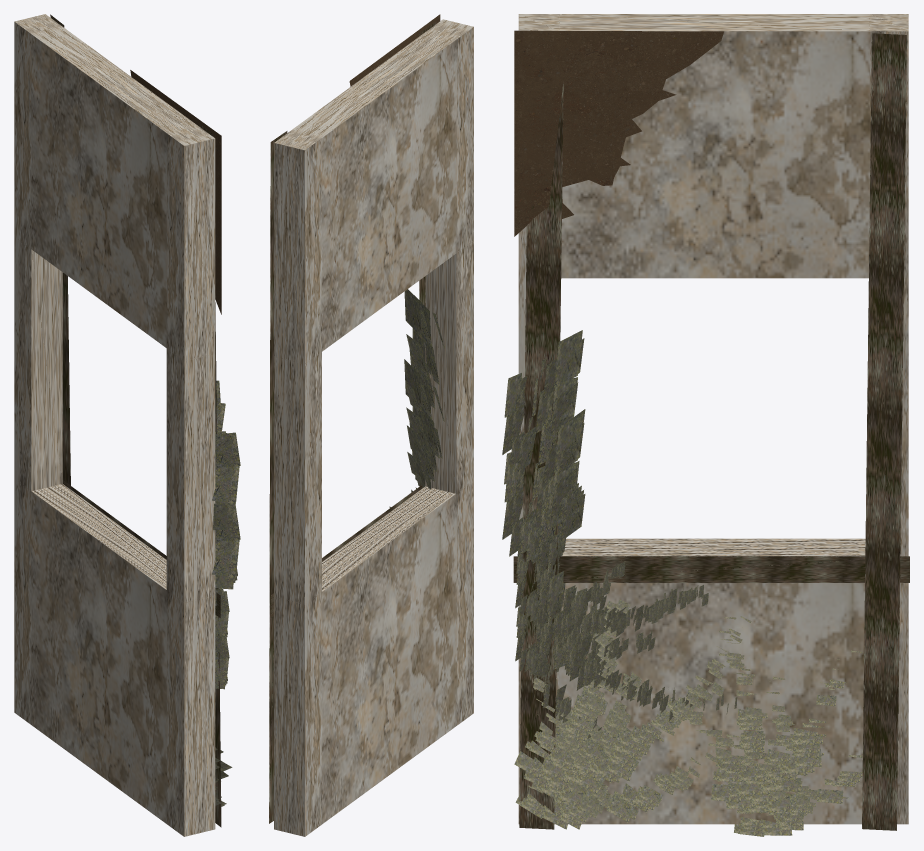
File: SingleWall.fbx
3 views of the same model, side by side, from view 1: azimuth 30°, elevation 25°; view 2: azimuth 150°, elevation 25°; view 3: azimuth 270°, elevation 25° (orthographic). The views are drawn at different scales.
Parts seen in each view (by area): view 1: Cube.028, IvyLeaf.032, IvyLeaf.031, Plane.026, Plane.025, Plane.024, IvyLeaf.029, Plane.023, IvyLeaf.030; view 2: Cube.028, Plane.025, IvyLeaf.031, IvyLeaf.032, Plane.026, Plane.023; view 3: Cube.028, Plane.025, Plane.026, IvyLeaf.027, Plane.024, IvyLeaf.028, IvyLeaf.029, Plane.023, IvyLeaf.031, IvyLeaf.032, IvyLeaf.033, IvyLeaf.030.
Part boxes in pixels (x1,y1,x2,y2): Cube.028: [14, 14, 215, 836]; IvyLeaf.032: [212, 380, 240, 515]; IvyLeaf.031: [212, 503, 240, 589]; Plane.026: [130, 70, 221, 314]; Plane.025: [50, 14, 70, 485]; Plane.024: [200, 124, 221, 827]; IvyLeaf.029: [215, 635, 229, 689]; Plane.023: [62, 480, 220, 617]; IvyLeaf.030: [215, 589, 229, 642]; Cube.028: [274, 19, 473, 836]; Plane.025: [269, 131, 287, 823]; IvyLeaf.031: [404, 359, 444, 492]; IvyLeaf.032: [404, 289, 444, 471]; Plane.026: [349, 14, 440, 86]; Plane.023: [270, 485, 423, 617]; Cube.028: [518, 14, 908, 824]; Plane.025: [862, 33, 906, 830]; Plane.026: [514, 30, 723, 236]; IvyLeaf.027: [514, 599, 751, 829]; Plane.024: [519, 81, 563, 829]; IvyLeaf.028: [687, 617, 862, 836]; IvyLeaf.029: [515, 560, 737, 738]; Plane.023: [513, 556, 909, 582]; IvyLeaf.031: [502, 414, 585, 614]; IvyLeaf.032: [502, 330, 585, 529]; IvyLeaf.033: [516, 563, 736, 737]; IvyLeaf.030: [515, 532, 565, 654].
Size of the model in its own units: 39.11 by 457 by 210.
